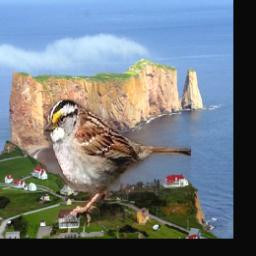Sparrow: (43, 100, 191, 228)
